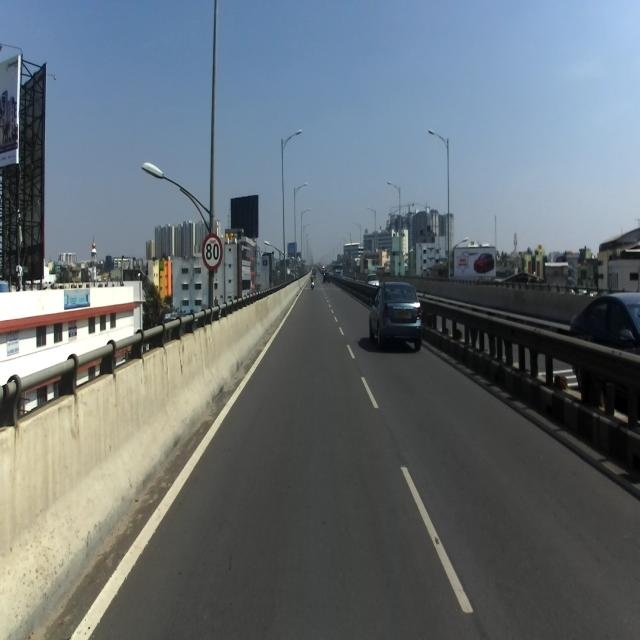car ahead at: (365, 275, 423, 348)
